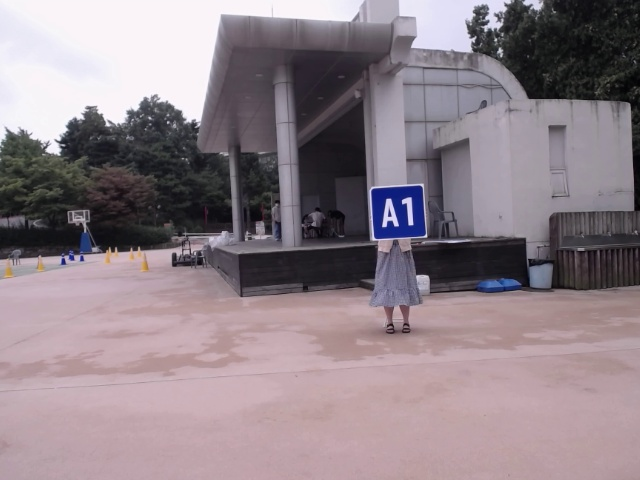delivery_a1: (370, 186, 427, 240)
